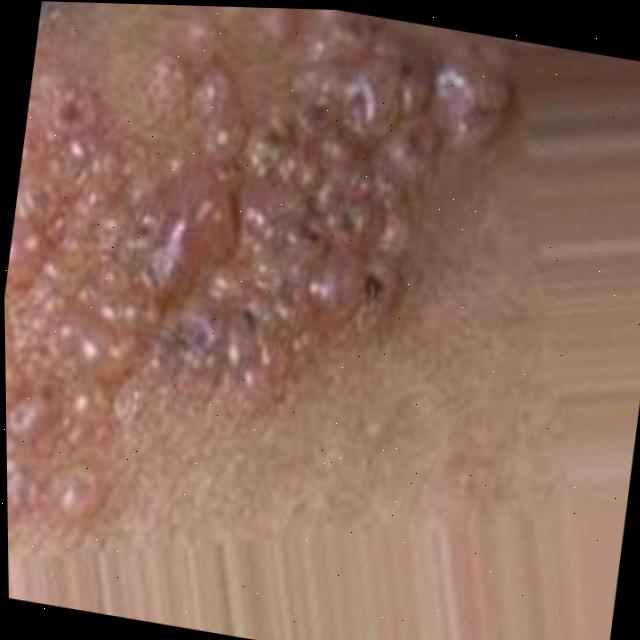Shingles: (0, 0, 508, 575)
